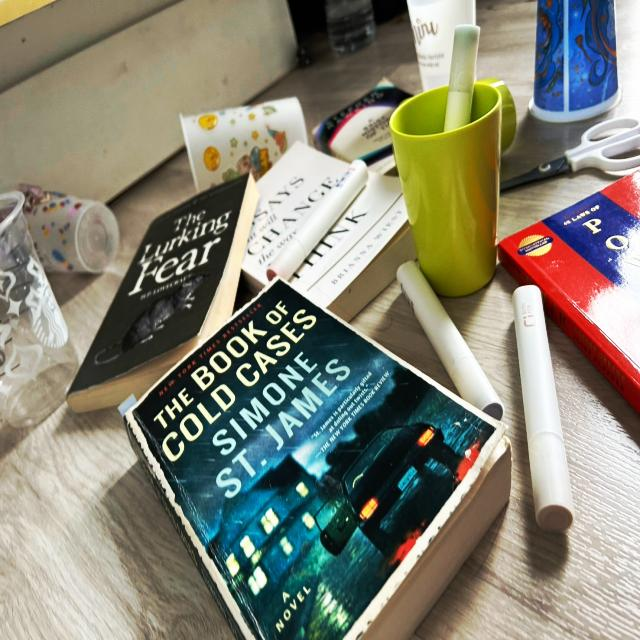Book: (121, 280, 510, 639), (67, 175, 257, 411), (499, 170, 640, 412), (291, 170, 418, 322), (243, 143, 349, 290), (268, 158, 371, 282), (315, 81, 411, 173)
HighLight Pen: (396, 261, 501, 419), (513, 285, 574, 532), (266, 161, 368, 279), (445, 24, 479, 131)
Plastic Cup: (0, 191, 78, 427), (180, 98, 307, 192), (529, 0, 619, 122), (19, 185, 119, 274), (407, 0, 476, 91)
Scissors: (501, 117, 640, 190)
WaterGlass: (389, 83, 502, 299), (481, 77, 517, 156)
